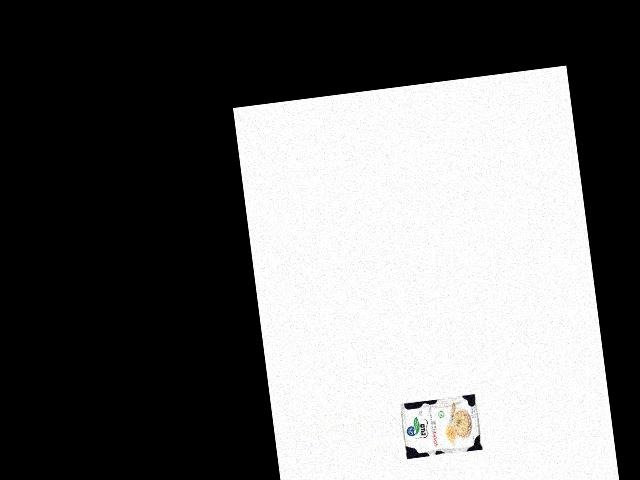cheese: (399, 392, 484, 461)
